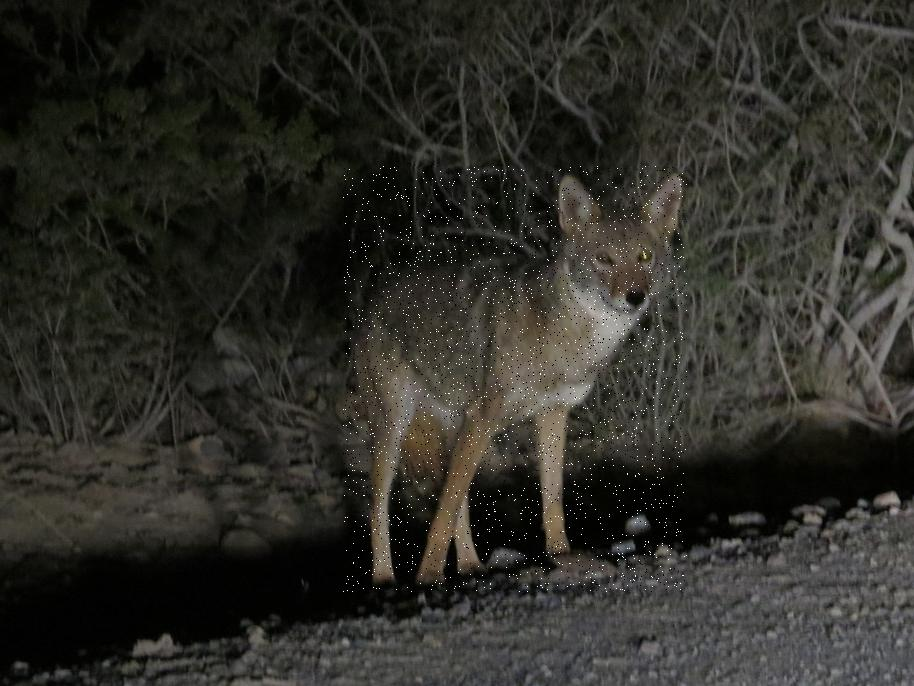Coyote: (344, 167, 688, 593)
